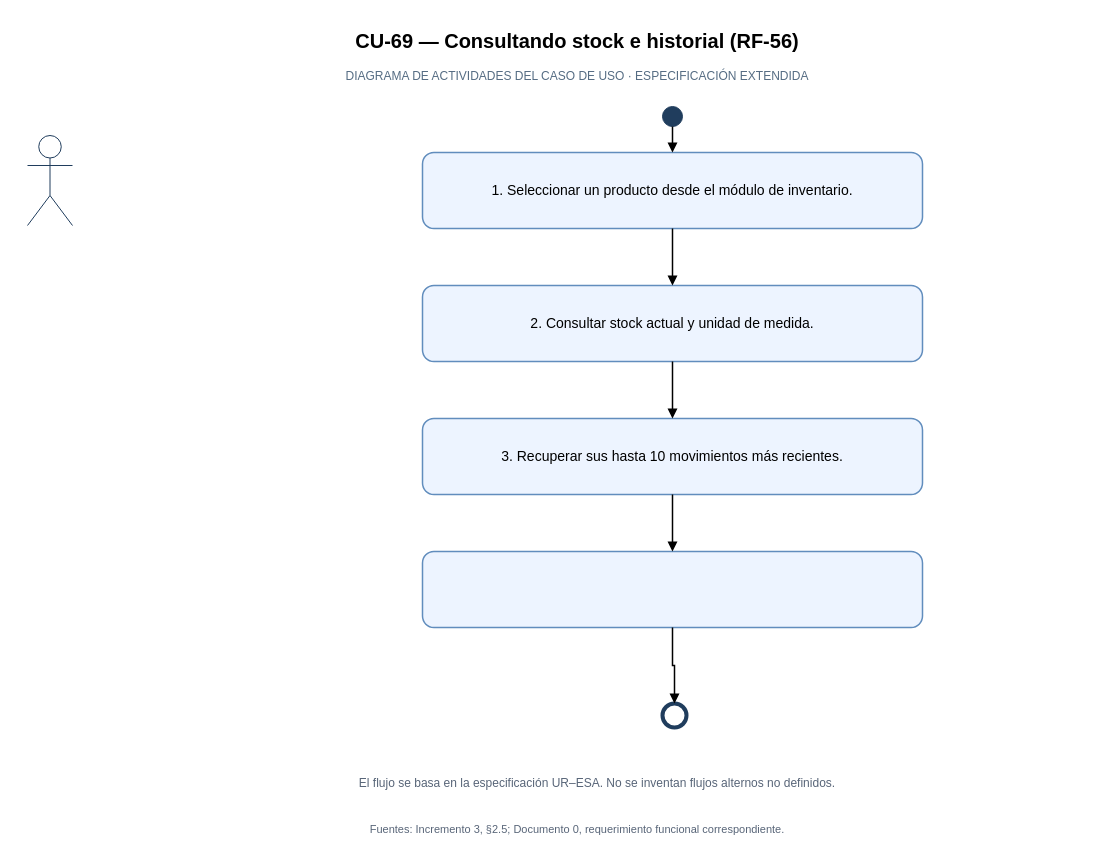
This 1115x858 diagram has some shape labels left out. Each missing label, with the box of its shape:
4. Mostrar stock e historial, del más reciente al más antiguo.: (421, 550, 923, 628)
Usuario autorizado: (26, 134, 72, 226)
